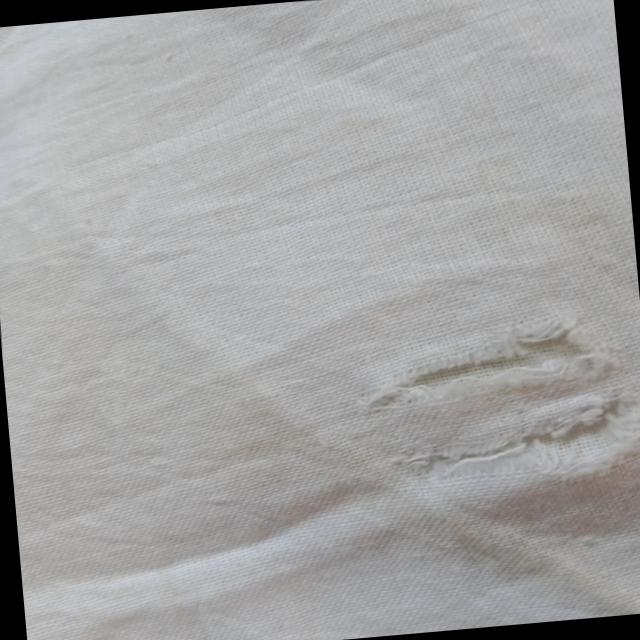cut: (339, 299, 640, 498)
